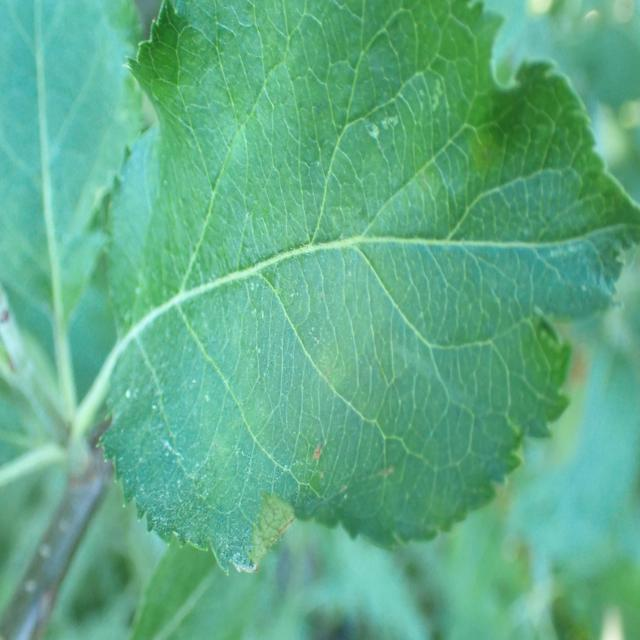scab: (102, 122, 563, 498)
